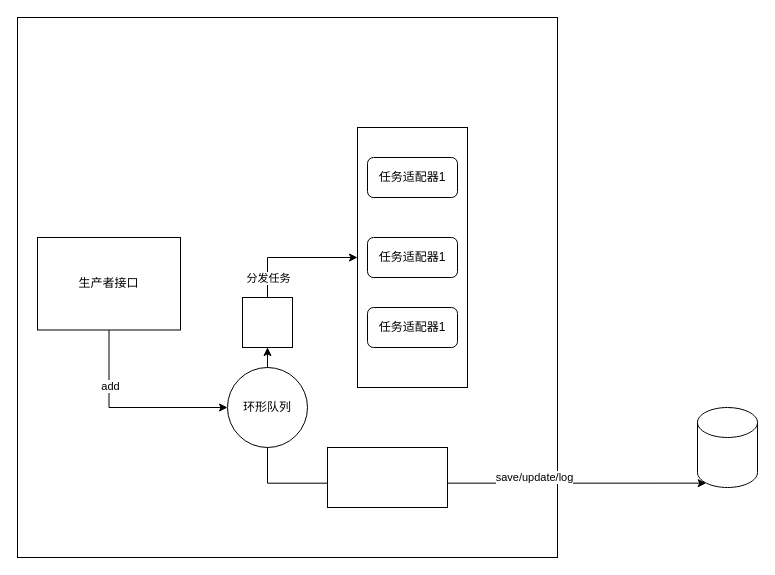
The diagram is 775 pixels wide and 575 high, and some of its shapes have lost their labels. Here are the shapes that lost their labels. From the top down, the centre of each, then its label:
(267,322): 任务分发器
(727,447): db
(387,477): 任务状态处理器
